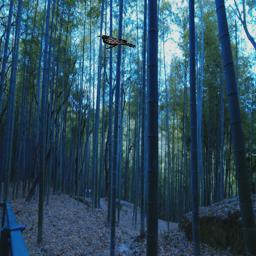Crow: (97, 35, 137, 49)
